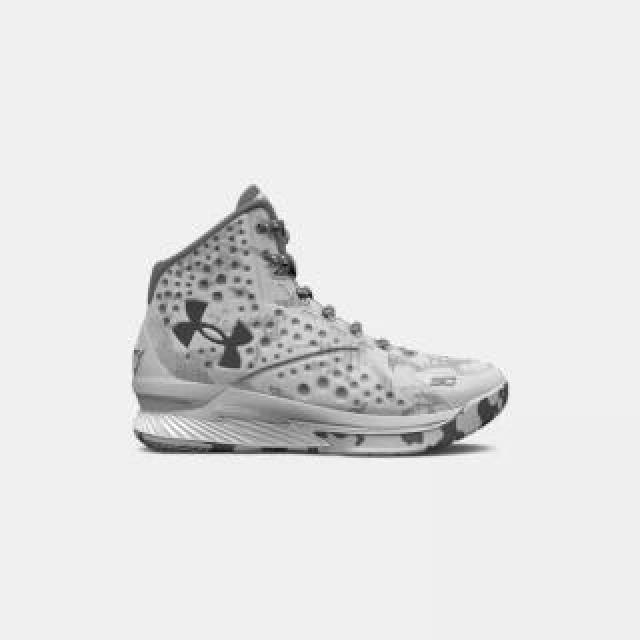shoe: (132, 179, 510, 455)
